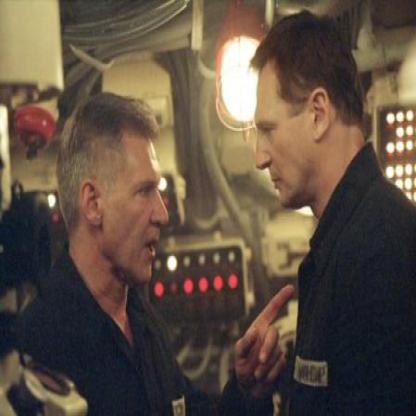face: (93, 99, 174, 287), (236, 39, 320, 209)
